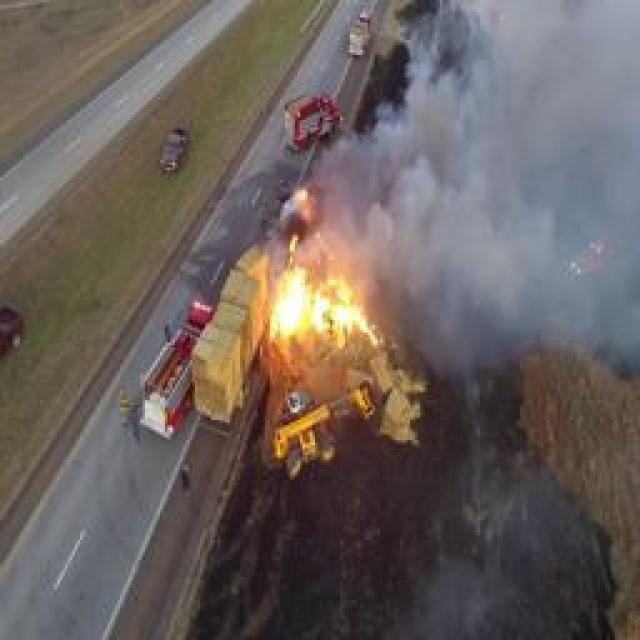Fire: (264, 273, 398, 360), (290, 173, 358, 342)
Smoke: (438, 35, 628, 335)
